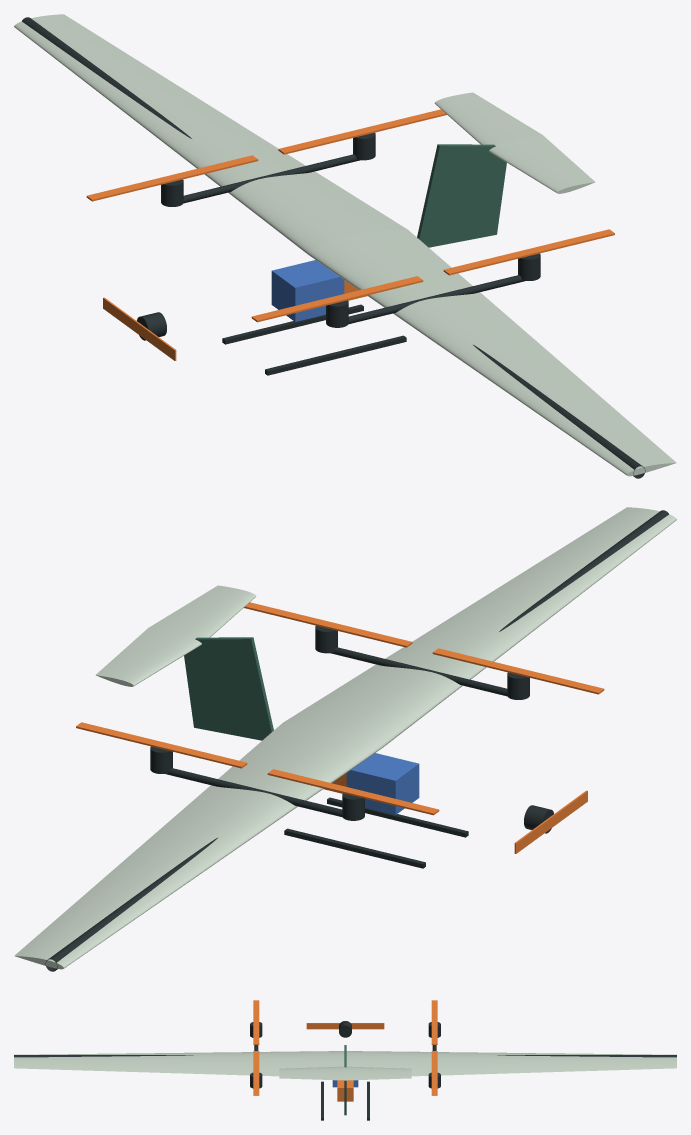
Rendered from 09-internal.glb.
3 views of the same model, one above another, from view 1: azimuth 30°, elevation 25°; view 2: azimuth 150°, elevation 25°; view 3: azimuth 270°, elevation 25° (orthographic). The views are drawn at different scales.
Parts seen in each view (by area): view 1: wing-1, wing1, fin, tail-1, payload, tail1, wing_spar, prop_-1_230.0, prop_1_230.0, prop_-1_700.0, prop_1_700.0, boom-1 (+4 smaller); view 2: wing1, wing-1, fin, tail1, payload, tail-1, wing_spar, prop_-1_230.0, prop_1_230.0, prop_1_700.0, prop_-1_700.0, boom1 (+4 smaller); view 3: wing-1, wing1, tail-1, tail1, wing_spar, cruise_prop, battery, prop_-1_230.0, prop_-1_700.0, prop_1_230.0, prop_1_700.0.
Part boxes in pixels (bbox=[...]): wing-1: bbox=[308, 229, 676, 476]; wing1: bbox=[14, 14, 407, 254]; fin: bbox=[417, 144, 506, 247]; tail-1: bbox=[489, 135, 595, 193]; payload: bbox=[271, 260, 344, 321]; tail1: bbox=[434, 92, 542, 145]; wing_spar: bbox=[22, 17, 645, 478]; prop_-1_230.0: bbox=[251, 276, 423, 322]; prop_1_230.0: bbox=[86, 155, 258, 201]; prop_-1_700.0: bbox=[443, 229, 614, 275]; prop_1_700.0: bbox=[278, 109, 446, 154]; boom-1: bbox=[348, 275, 524, 324]; wing1: bbox=[14, 722, 382, 969]; wing-1: bbox=[283, 507, 676, 747]; fin: bbox=[184, 637, 273, 740]; tail1: bbox=[95, 628, 201, 686]; payload: bbox=[346, 753, 419, 814]; tail-1: bbox=[148, 585, 256, 638]; wing_spar: bbox=[45, 510, 668, 971]; prop_-1_230.0: bbox=[432, 648, 604, 694]; prop_1_230.0: bbox=[267, 769, 439, 815]; prop_1_700.0: bbox=[76, 722, 247, 768]; prop_-1_700.0: bbox=[244, 602, 412, 647]; boom1: bbox=[166, 768, 342, 817]; wing-1: bbox=[14, 1051, 344, 1076]; wing1: bbox=[346, 1051, 676, 1076]; tail-1: bbox=[279, 1066, 345, 1080]; tail1: bbox=[345, 1066, 411, 1080]; wing_spar: bbox=[14, 1055, 676, 1057]; cruise_prop: bbox=[306, 1023, 384, 1029]; battery: bbox=[337, 1080, 353, 1101]; prop_-1_230.0: bbox=[253, 1000, 259, 1044]; prop_-1_700.0: bbox=[253, 1051, 259, 1095]; prop_1_230.0: bbox=[431, 1000, 437, 1044]; prop_1_700.0: bbox=[431, 1051, 437, 1095].
Bounding box in the file's own units: 989 × 390 × 2600.
